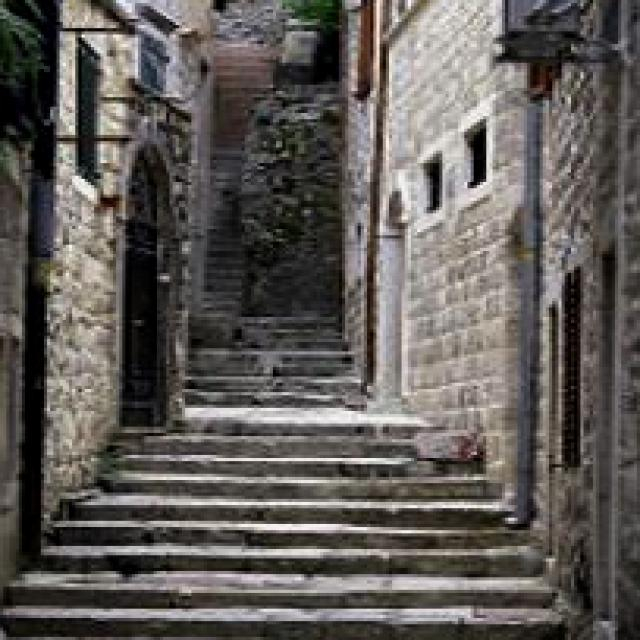upstair: (58, 409, 535, 638)
